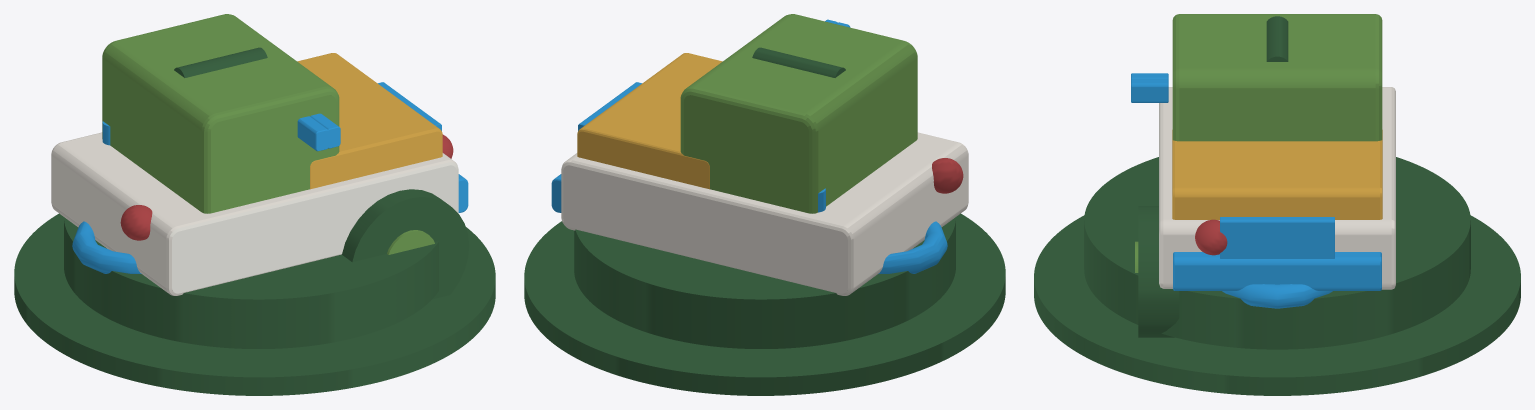
The model's file is 0376_欧洲文明图鉴_哥特式教堂.glb.
The picture shows the model from 3 angles, left to right: view 1: azimuth 30°, elevation 25°; view 2: azimuth 150°, elevation 25°; view 3: azimuth 270°, elevation 25°; orthographic projection.
Visible parts, largest first — view 1: card_0376; view 2: card_0376; view 3: card_0376.
Boxes of the visible parts, x1,y1,x2,y2 form: card_0376: (14,14,495,395); card_0376: (524,14,1005,395); card_0376: (1034,14,1520,395).
Bounding box in the file's own units: 1.79 × 1 × 1.82.
